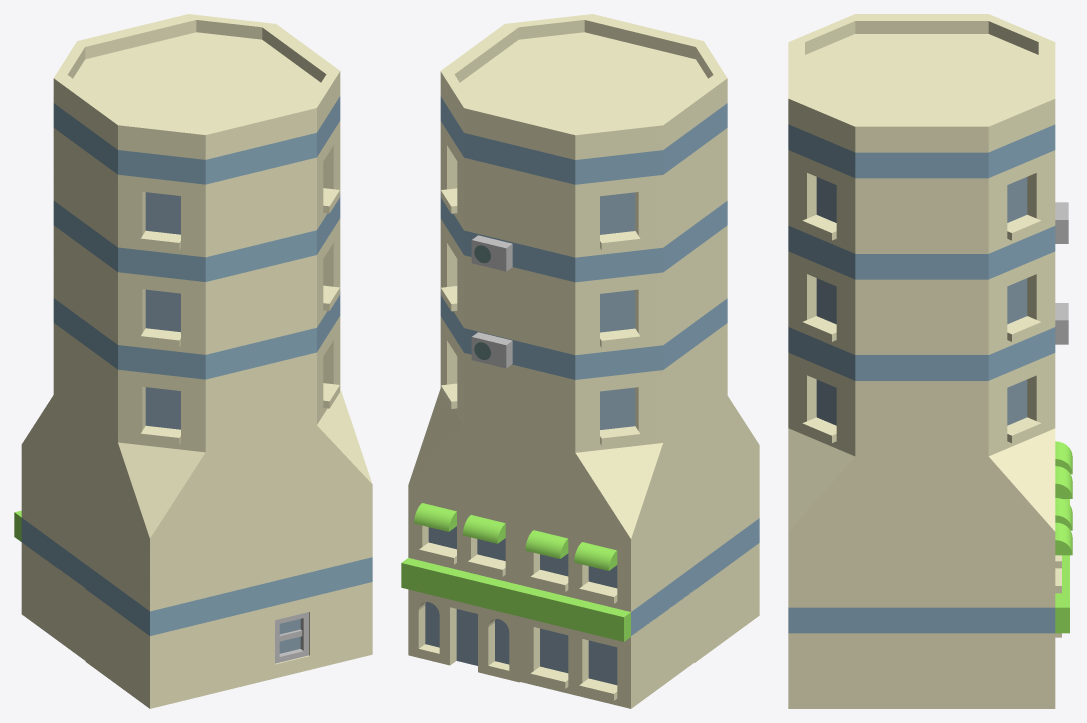
Rendered from SM_Building_Tall_01.fbx.
3 renders of one model, left to right at view 1: azimuth 30°, elevation 25°; view 2: azimuth 150°, elevation 25°; view 3: azimuth 270°, elevation 25°, orthographic. The views are drawn at different scales.
Parts seen in each view (by area): view 1: SM_Building_Tall_01; view 2: SM_Building_Tall_01; view 3: SM_Building_Tall_01.
Boxes of the visible parts, box(x1,y1,x2,y2) form: SM_Building_Tall_01: box(14, 14, 372, 708); SM_Building_Tall_01: box(401, 14, 759, 708); SM_Building_Tall_01: box(788, 14, 1072, 708).
Bounding box in the file's own units: 800 × 1925 × 851.
